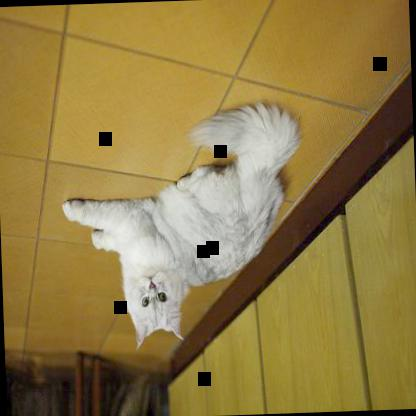cat: (58, 104, 305, 355)
